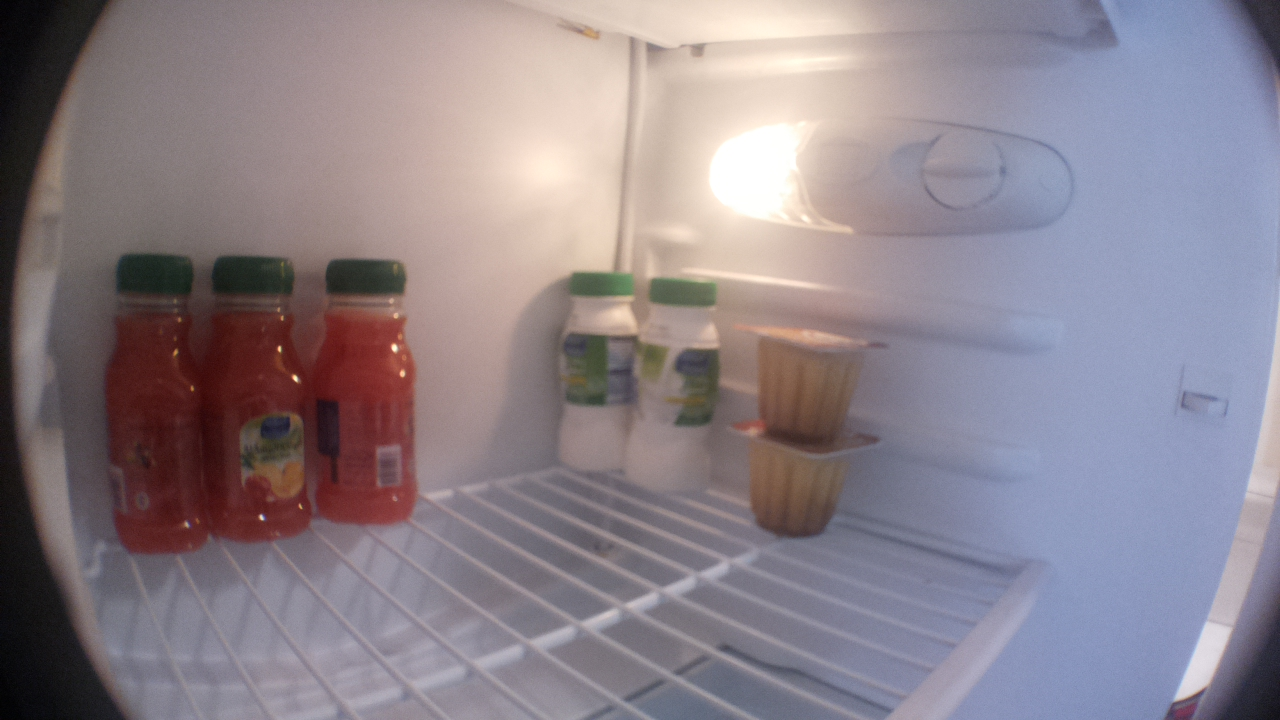caramel: (728, 302, 890, 439), (731, 415, 903, 541)
juice: (203, 251, 314, 543), (96, 250, 201, 553), (310, 251, 422, 529)
laban: (622, 273, 724, 499), (550, 264, 647, 480)
